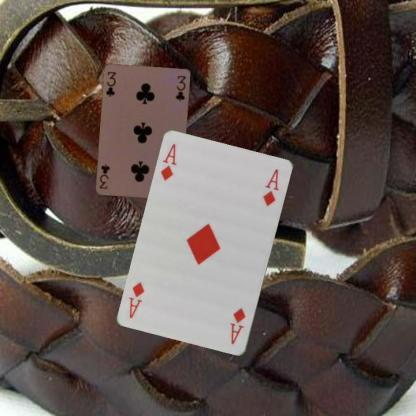3c: (104, 70, 118, 98)
Ad: (158, 141, 178, 183), (228, 305, 247, 346)
